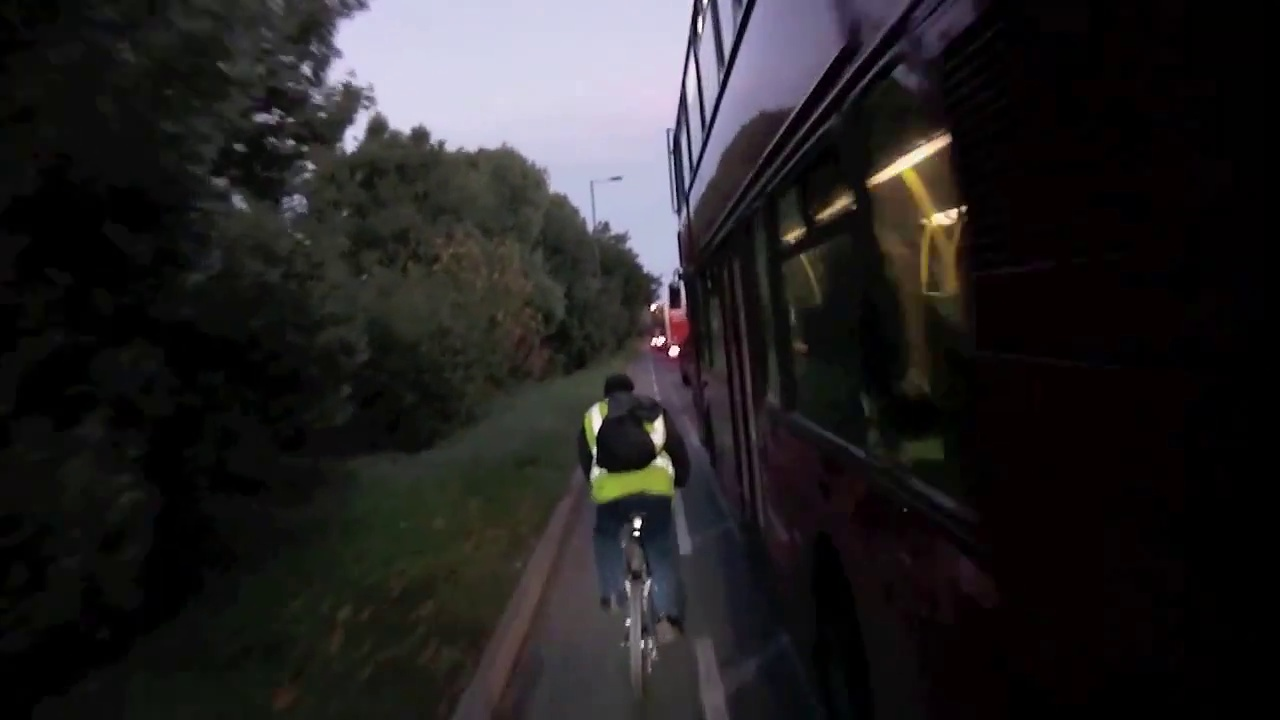cyclist_back: (572, 370, 695, 707)
